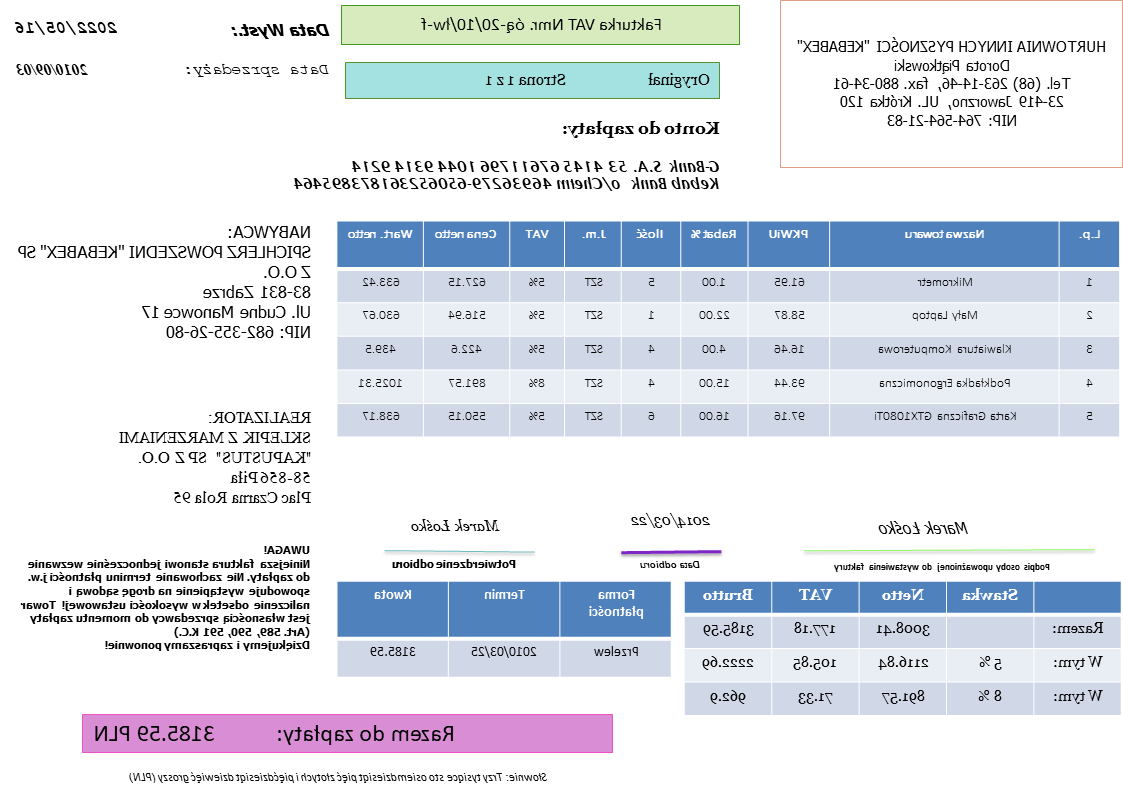Table: (336, 220, 1121, 438), (682, 580, 1122, 717), (336, 580, 673, 678)
TextBox: (15, 223, 315, 342), (18, 541, 314, 654), (794, 36, 1108, 132), (115, 407, 314, 507), (292, 157, 723, 195), (91, 721, 457, 748), (126, 768, 550, 787), (420, 13, 665, 35), (483, 70, 712, 89), (559, 116, 724, 141), (830, 558, 1055, 575), (185, 61, 332, 78), (14, 17, 122, 38), (228, 19, 333, 39), (388, 556, 519, 572), (876, 517, 970, 537), (627, 511, 714, 532), (409, 517, 502, 536), (16, 61, 91, 77), (638, 556, 704, 572)
